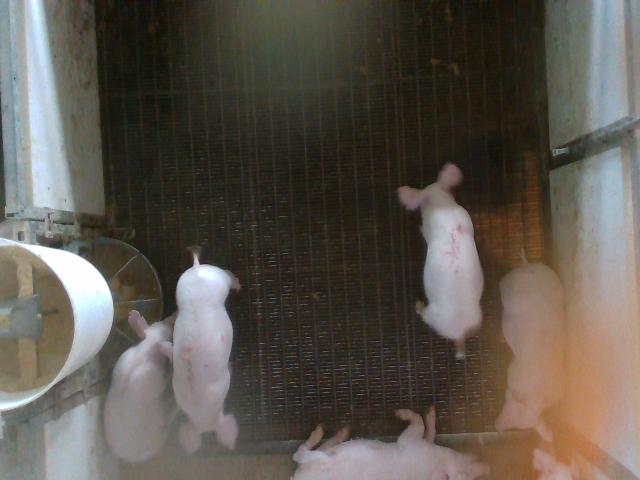pig-3: (172, 246, 240, 453)
pig-4: (496, 256, 564, 442)
pig-5: (398, 164, 484, 358)
